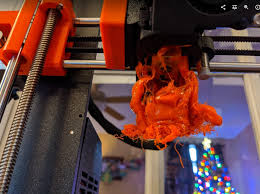fail: (125, 51, 224, 170), (111, 121, 227, 168)
